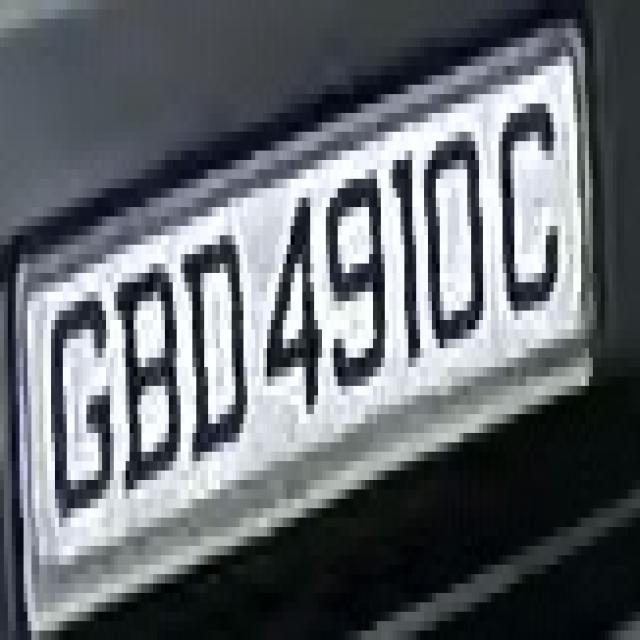0: (420, 132, 487, 367)
1: (389, 122, 428, 424)
4: (251, 207, 326, 433)
9: (314, 160, 389, 424)
B: (102, 226, 185, 518)
C: (499, 75, 569, 348)
D: (173, 207, 255, 499)
G: (39, 264, 118, 527)
